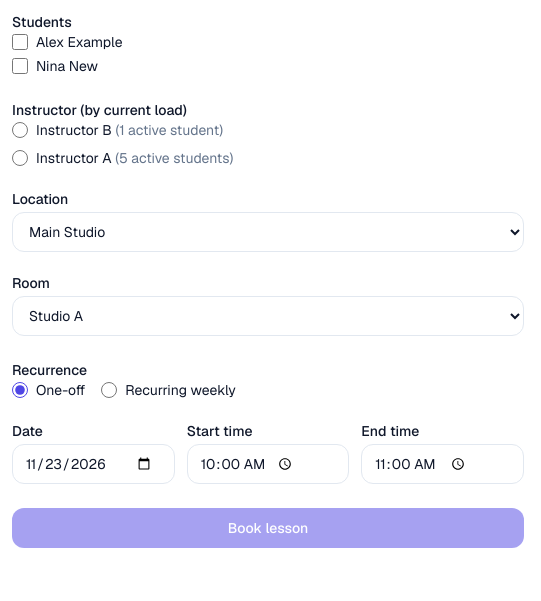
Test: BookingForm › shows the server's error message when the booking request is rejected with a conflict
Click the checkbox labelled "Alex Example" at (20, 42), box [12,34,28,50]
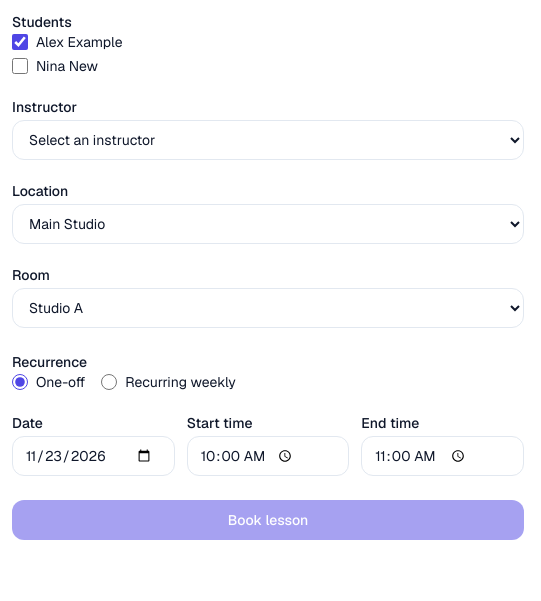
Select "Instructor A" in the dropdown labelled "Instructor" at (268, 140), box [12,120,524,160]
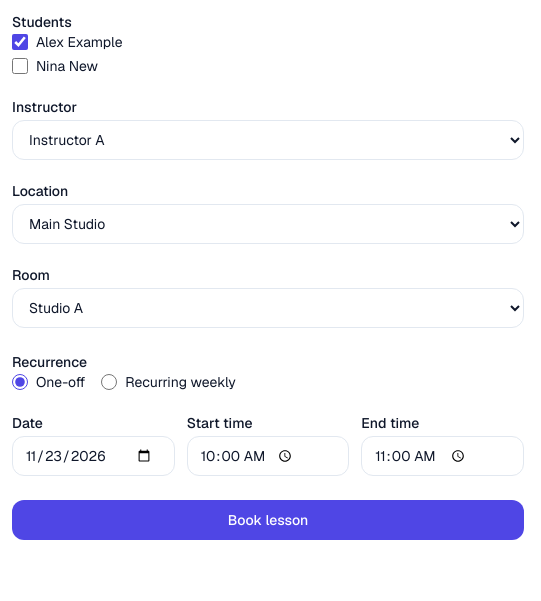
Click the button "Book lesson" at (268, 520), box [12,500,524,540]
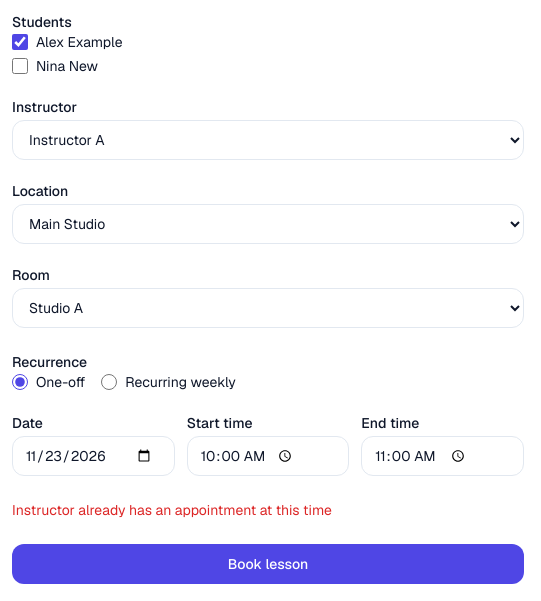
expect the text "Instructor already has an appointment at this time" is shown: met, box [12,501,332,519]
